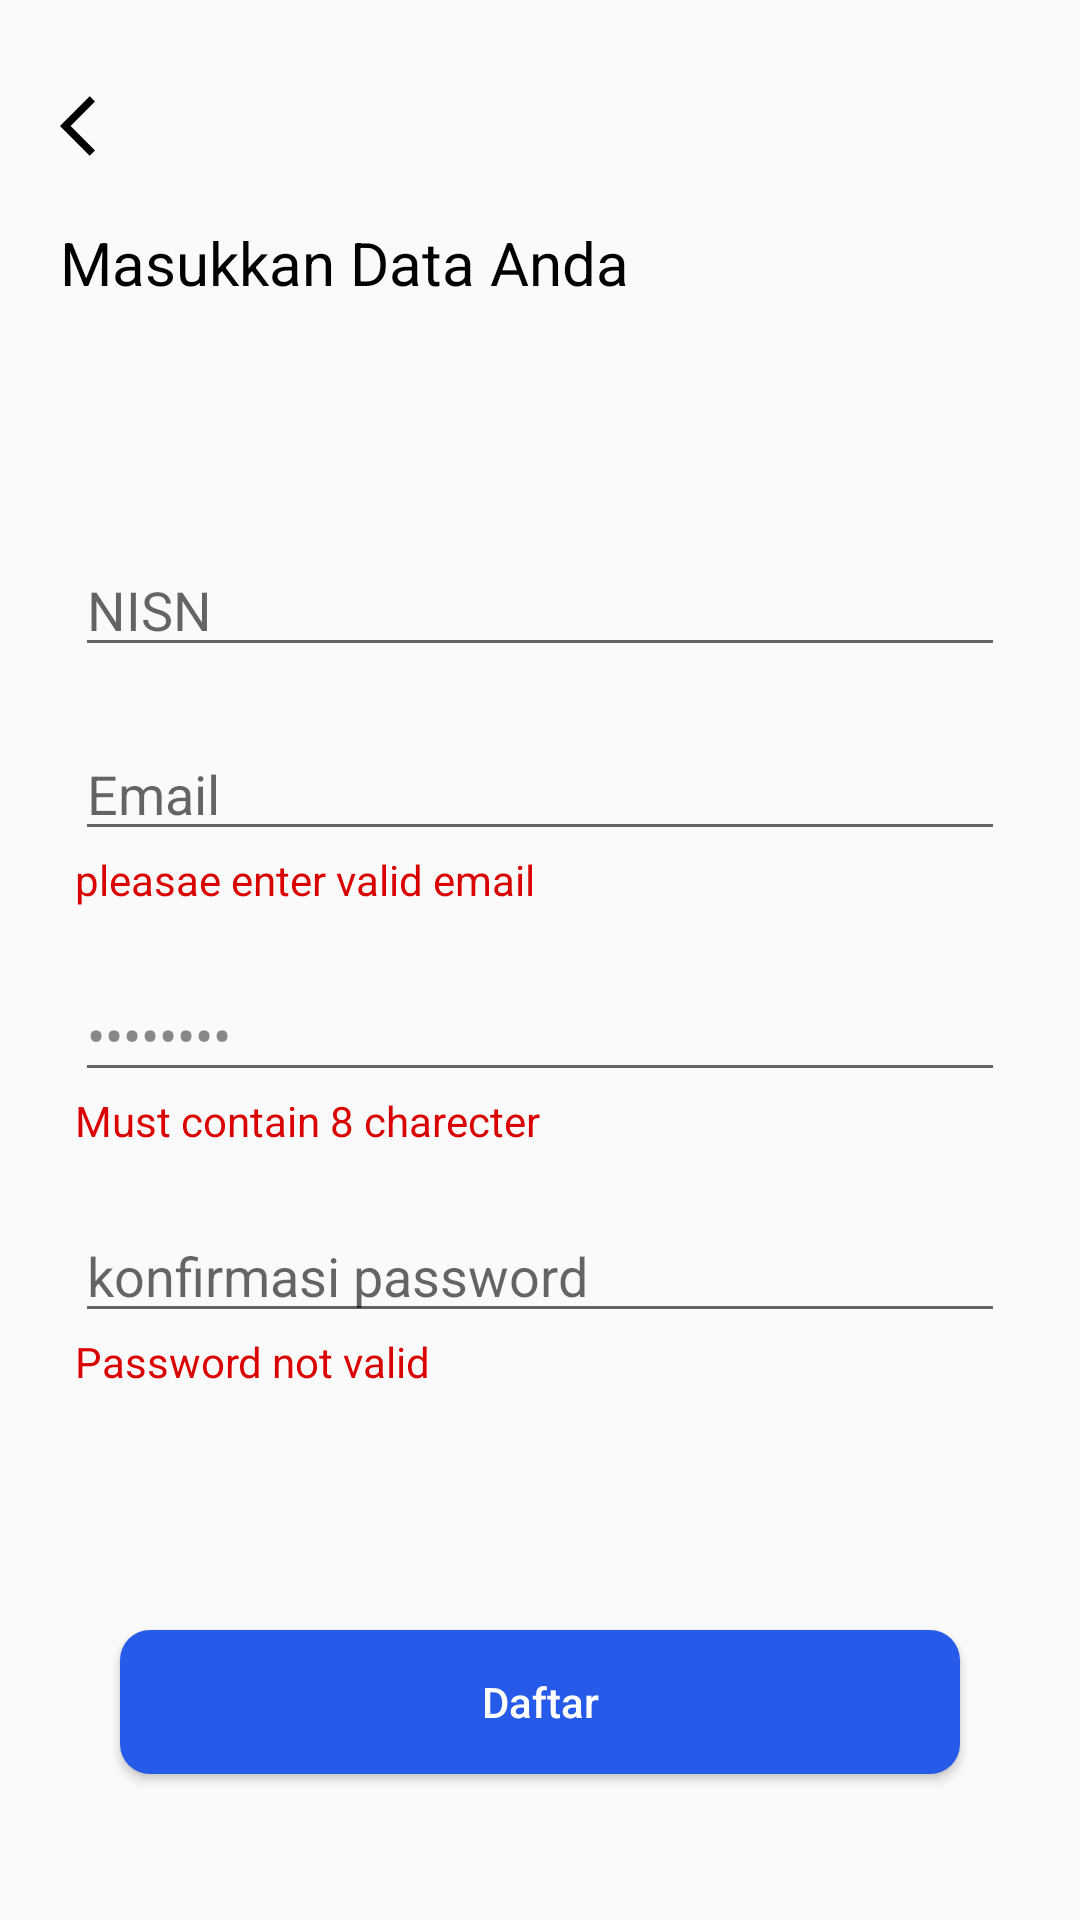

Where icons sit on this 1080px x 1920px app screen, as bbox(x1, y1, x2, y2):
back: bbox(60, 96, 95, 156)
